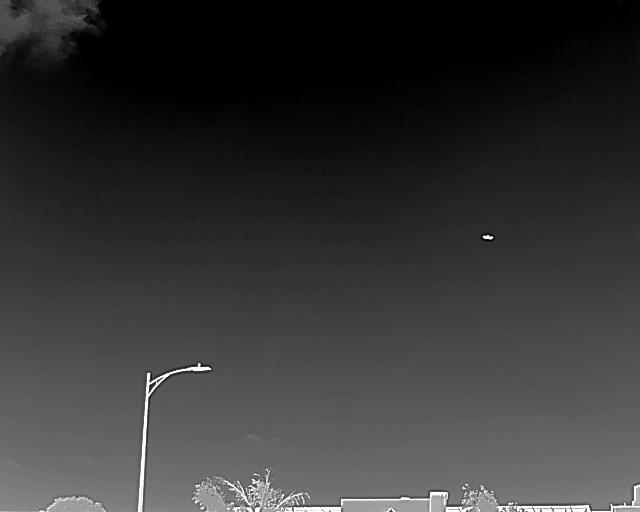fpv-drone: (482, 233, 494, 241)
